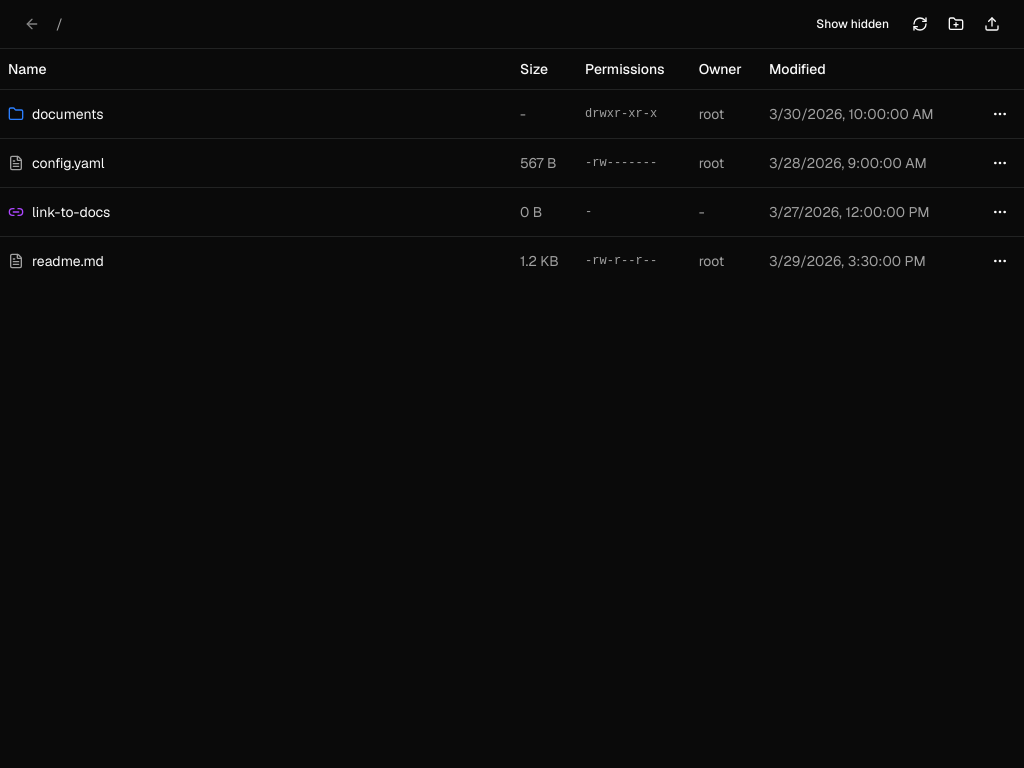
Test case: FileBrowser › opens create directory dialog
Check: the text "documents" is shown, box [32,104,104,124]
Click the button named "Create directory" at (956, 24), box [940,8,972,40]
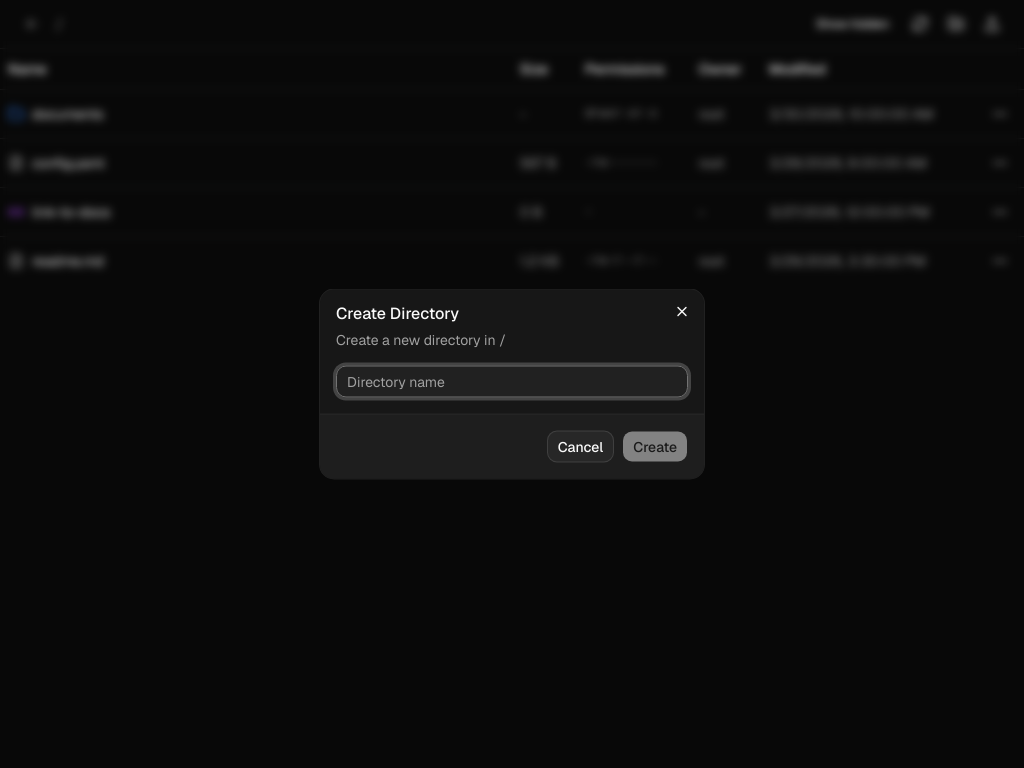
Check: the heading "Create Directory" is shown, box [336,302,459,324]
Check: the field with test id "mkdir-input" is shown, box [336,366,688,398]
